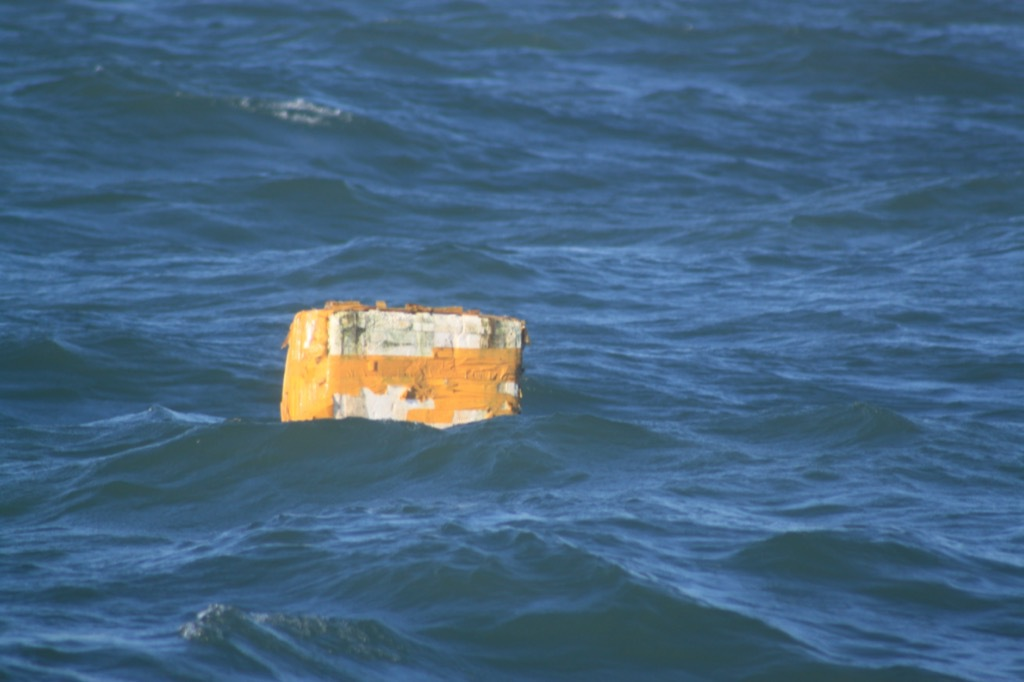plastic: (233, 259, 570, 494)
